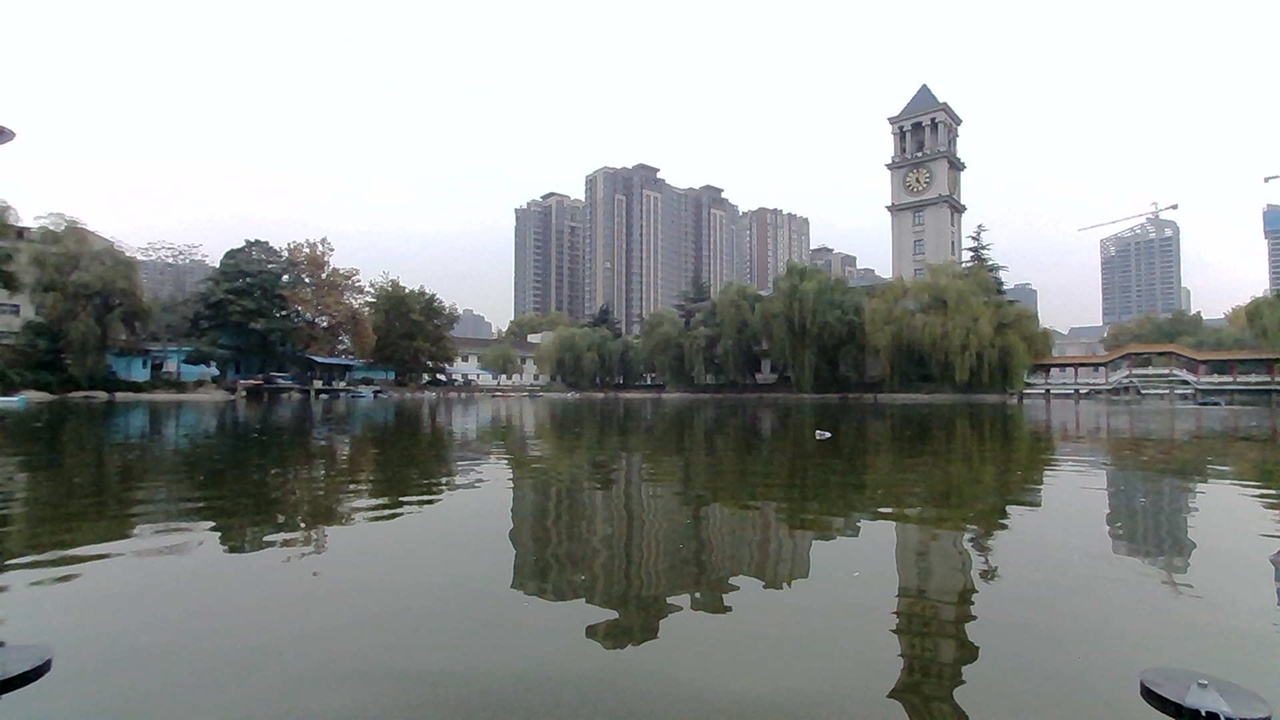bottle: (811, 416, 850, 446)
